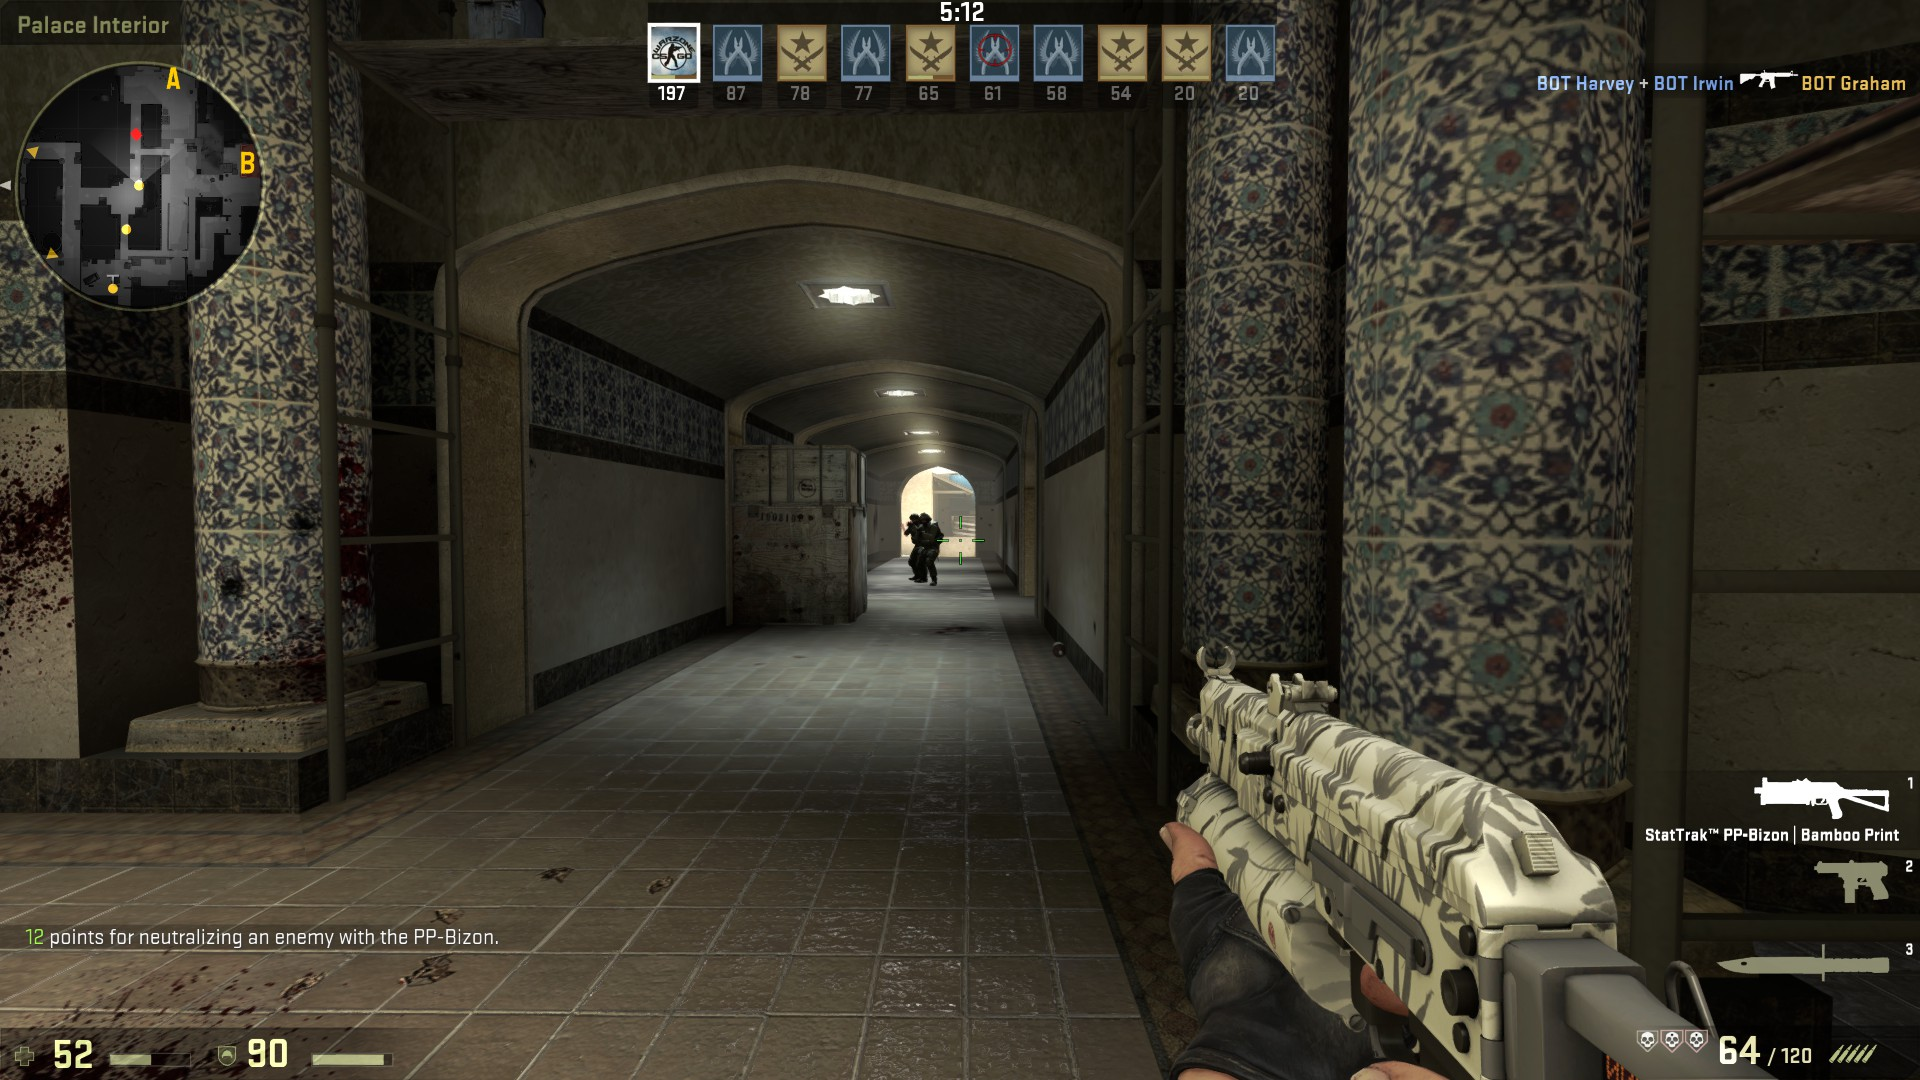c: (915, 512, 942, 587), (905, 513, 923, 583)
ch: (920, 512, 934, 527), (909, 513, 920, 527)
